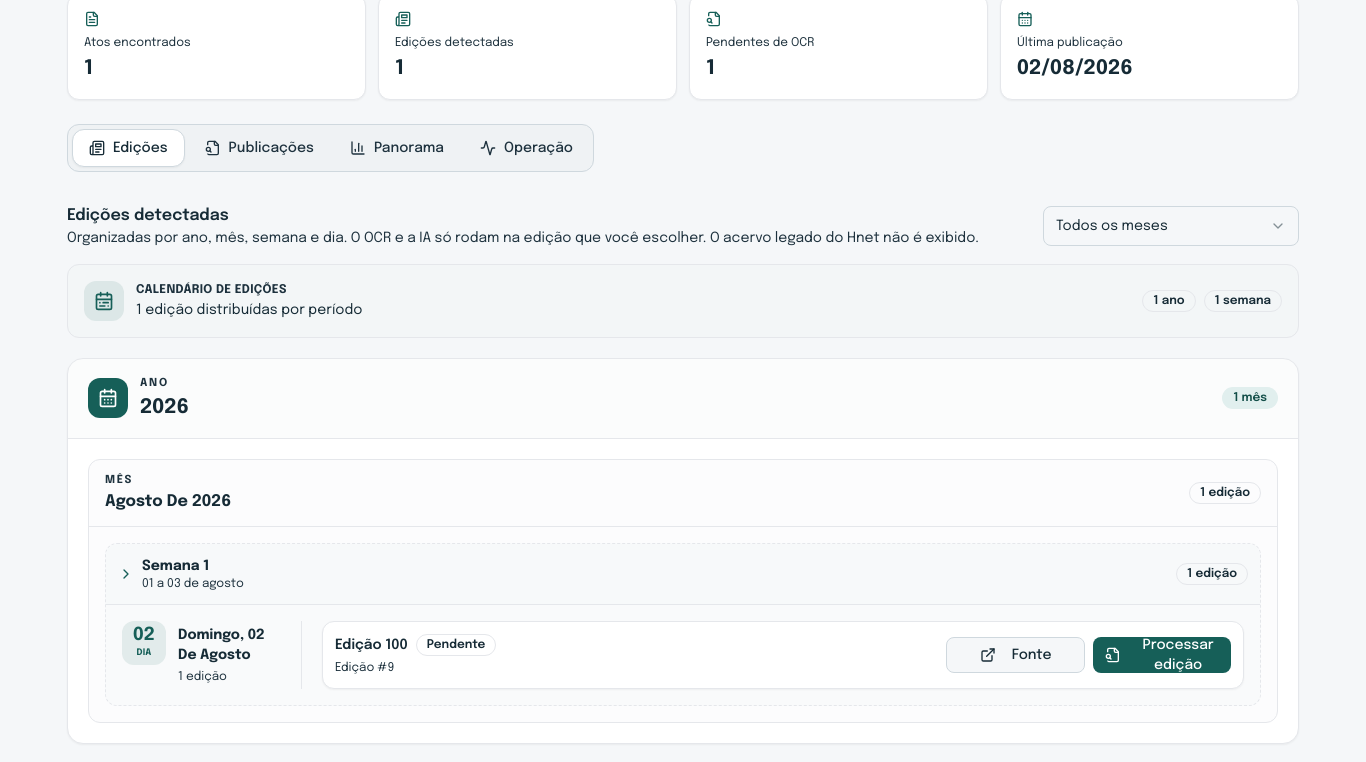
it: DetectorAtos › processa somente a edição escolhida
The width and height of the screenshot is (1366, 762).
(page scrolled)
expect the text "Edição 100" is shown: met, box [335, 635, 408, 655]
Click the button "Processar edição" at [1162, 655], box [1093, 637, 1231, 673]
(page scrolled)
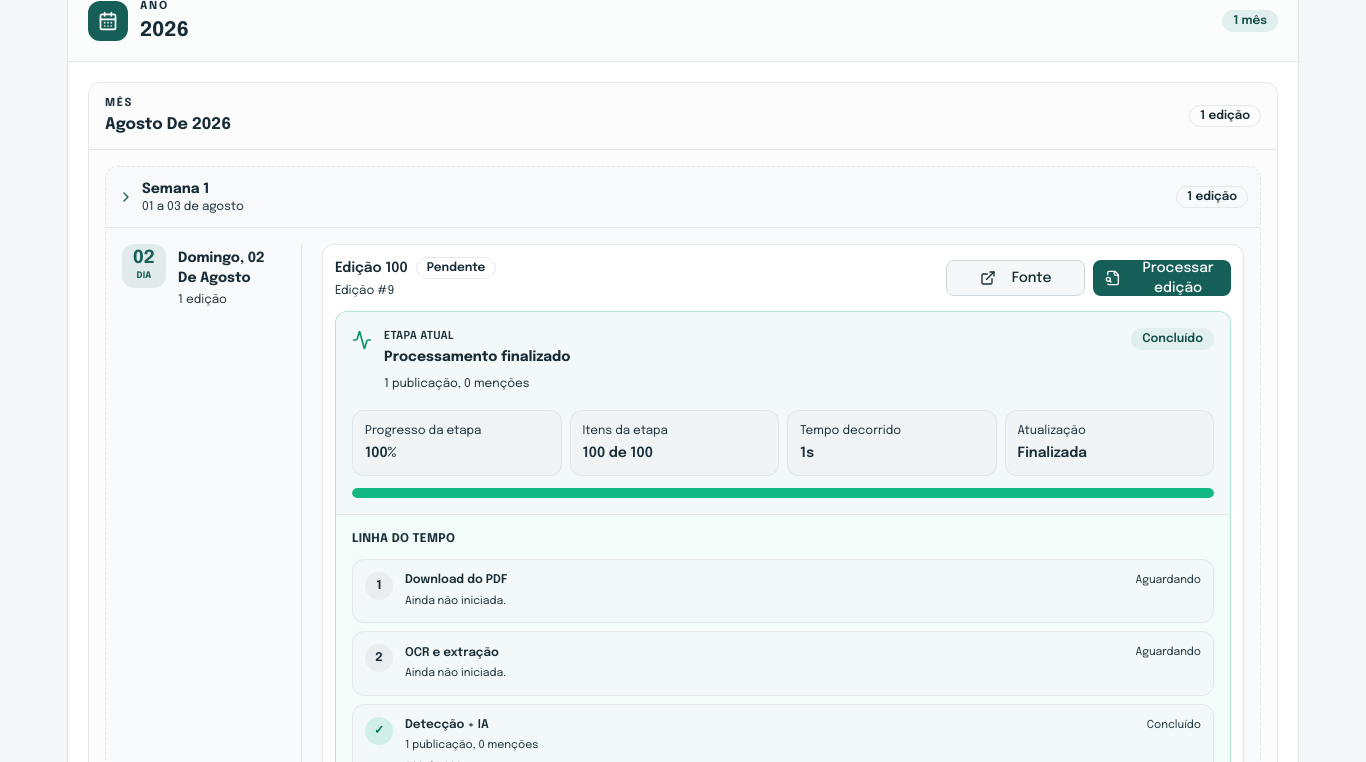
expect the text "Processamento finalizado" is shown: met, box [384, 346, 570, 366]
expect the text "Linha do tempo" is shown: met, box [352, 533, 455, 545]
expect the text "1 publicação, 0 menções" below "Processamento finalizado" is shown: met, box [384, 378, 530, 390]
